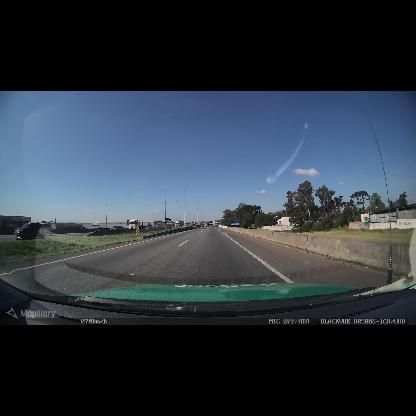O-MP: (135, 225, 139, 235)
